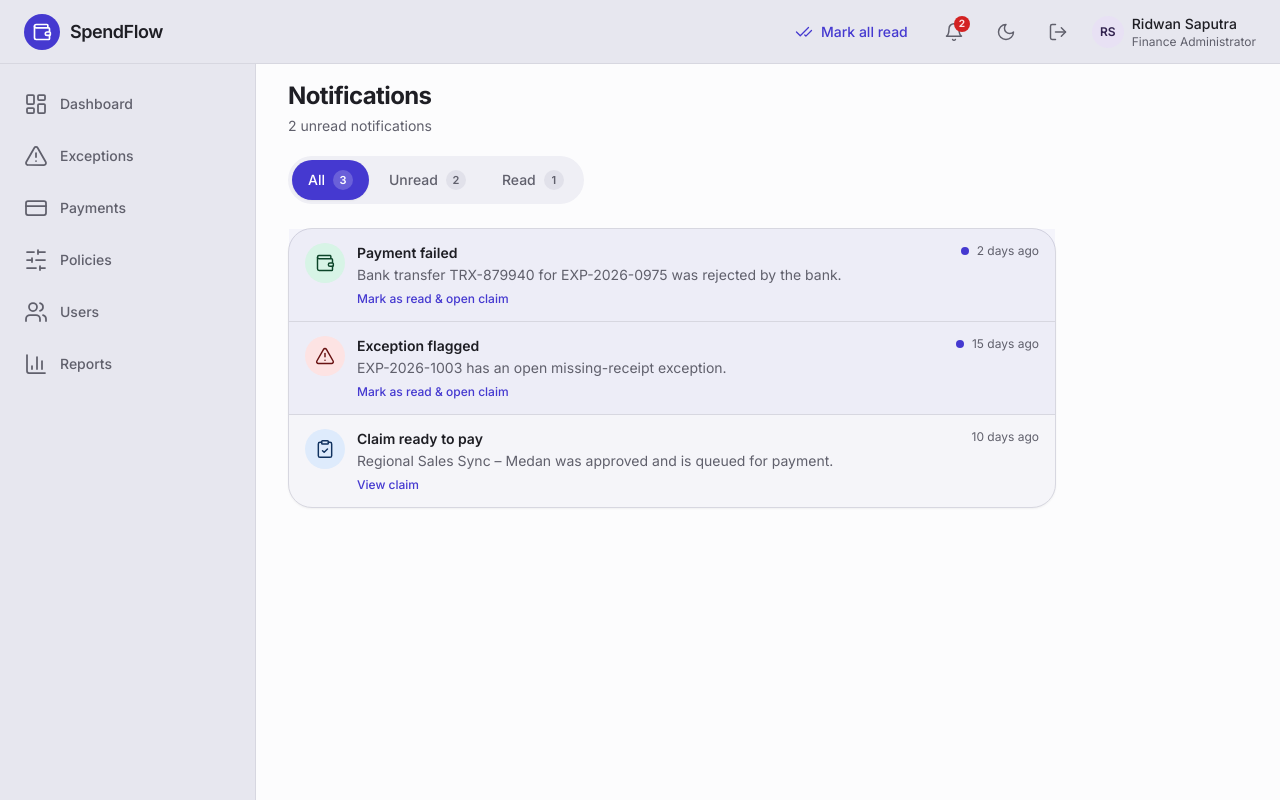
Test: Notification center — badge, filter & click navigation › All / Unread / Read filters show the correct subsets
The image size is (1280, 800).
Check: the text "Exception flagged" is shown, box [357,336,479,356]
Check: the text "Payment failed" is shown, box [357,243,458,263]
# Unread tab → only the two unread rows.
Click the tab "Unread 2" at (427, 180), box [373,160,482,200]
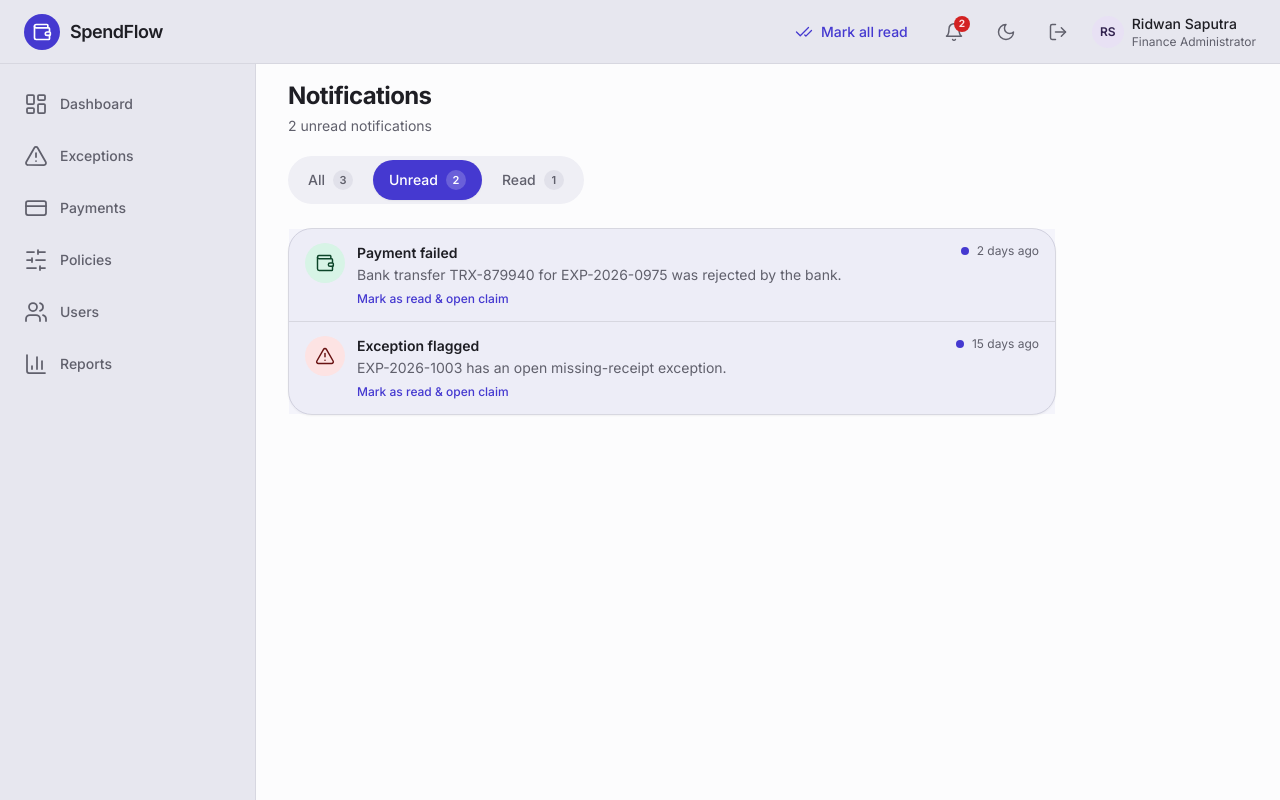
Check: the text "Exception flagged" is shown, box [357,336,479,356]
Check: the button "Claim ready to pay" is gone
# Read tab → only the read row.
Click the tab "Read 1" at (533, 180), box [486,160,580,200]
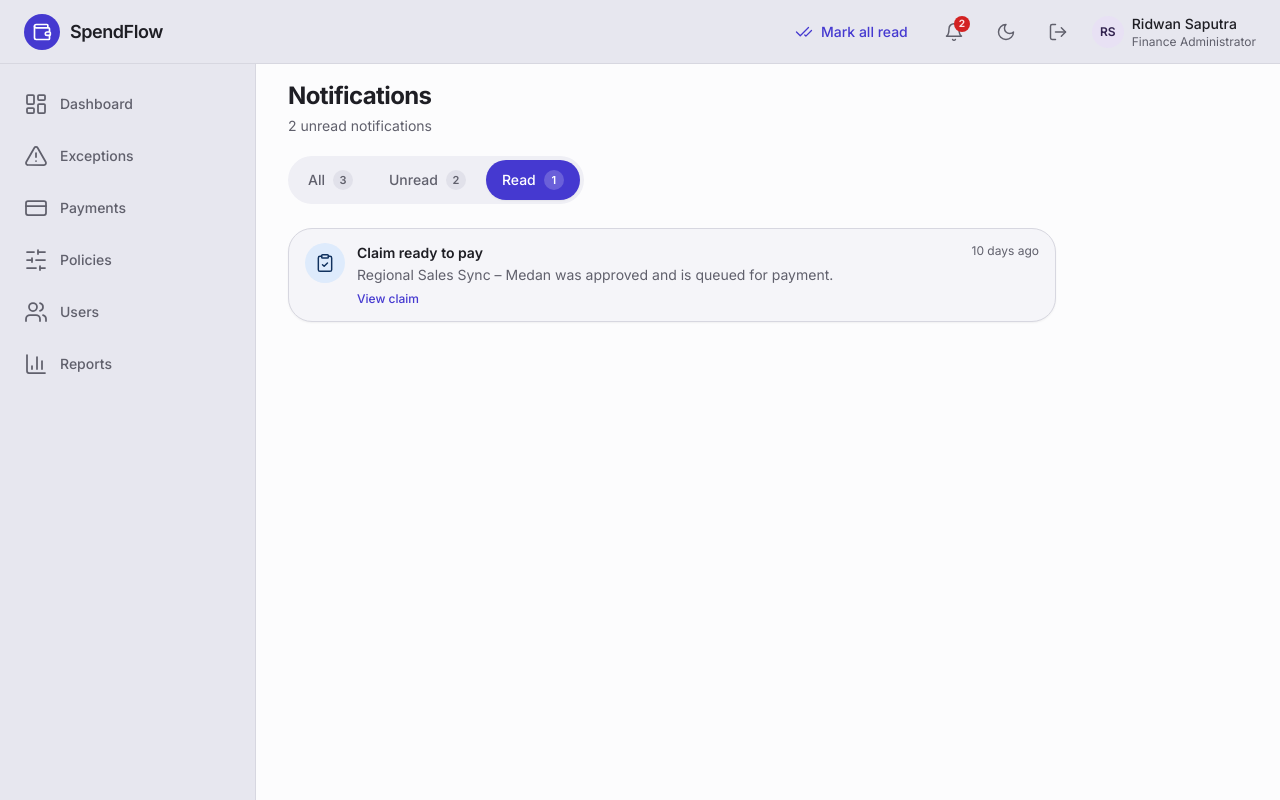
Check: the button "Exception flagged" is gone
Check: the text "Claim ready to pay" is shown, box [357,243,483,263]
